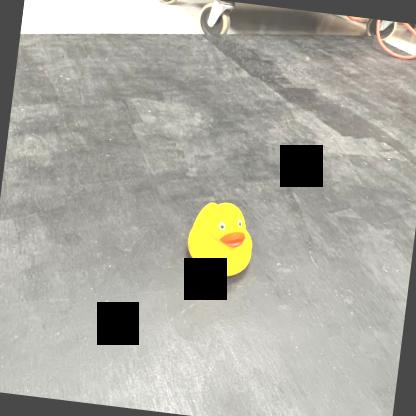duck: (182, 197, 259, 282)
